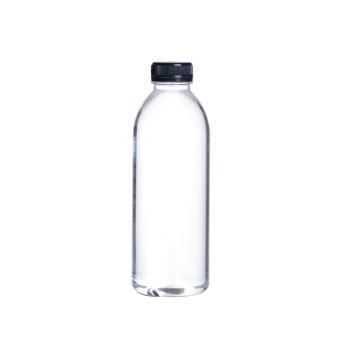bottle: (132, 61, 210, 296)
